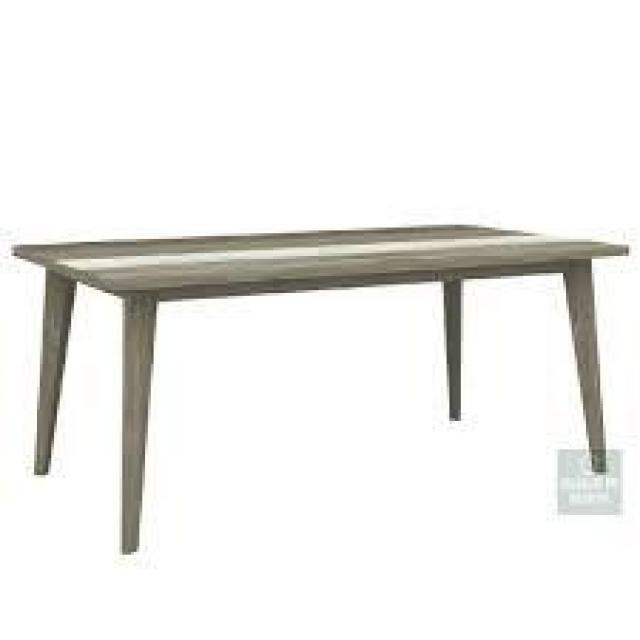table: (0, 140, 614, 556)
